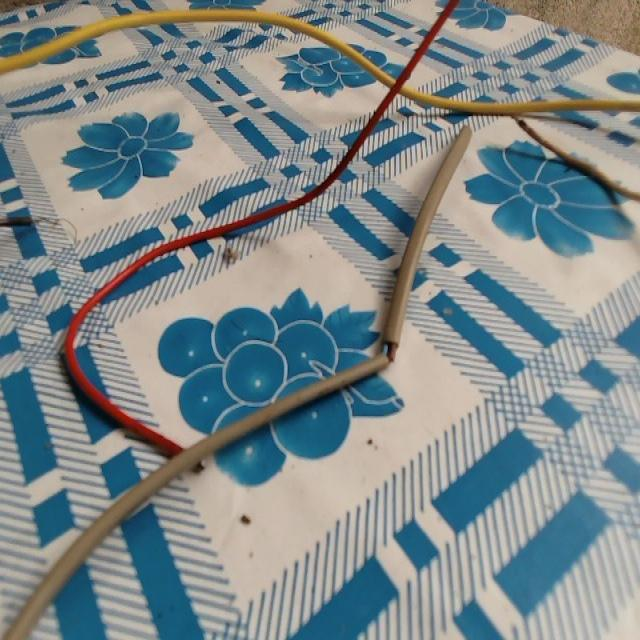-: (5, 211, 63, 232), (376, 331, 402, 366), (512, 105, 530, 128)
